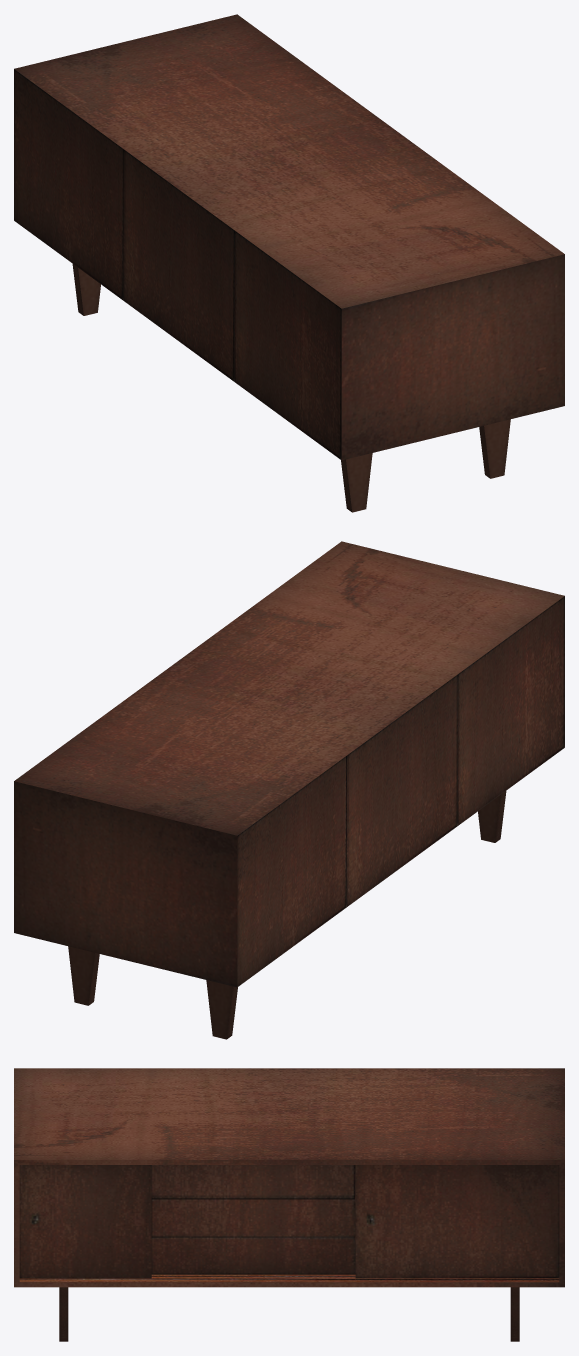
File: ps2_soviet_tv_table.glb
3 views of the same model, one above another, from view 1: azimuth 30°, elevation 25°; view 2: azimuth 150°, elevation 25°; view 3: azimuth 270°, elevation 25° (orthographic). The views are drawn at different scales.
Visible parts, largest first — view 1: TV_table.001; view 2: TV_table.001; view 3: TV_table.001.
Boxes of the visible parts, bbox=[...] form: TV_table.001: bbox=[14, 14, 564, 512]; TV_table.001: bbox=[14, 541, 564, 1039]; TV_table.001: bbox=[14, 1068, 564, 1341].
Size of the model in its own units: 0.492 by 0.49 by 1.25.
1 material, 1 textured.
